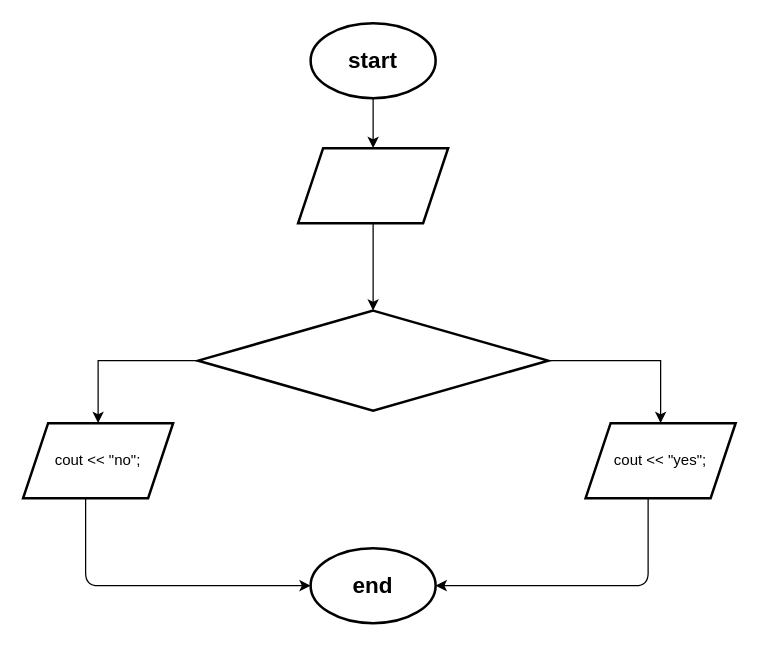
Some shapes in this 758 by 645 pixel diagram are drawn without their labels. Here are the shapes that lost their labels. From the top down, the centre of each, then its label:
the point at 372,185: x,y,x
the point at 372,360: x < y + z && y < x + z && z < x + y
